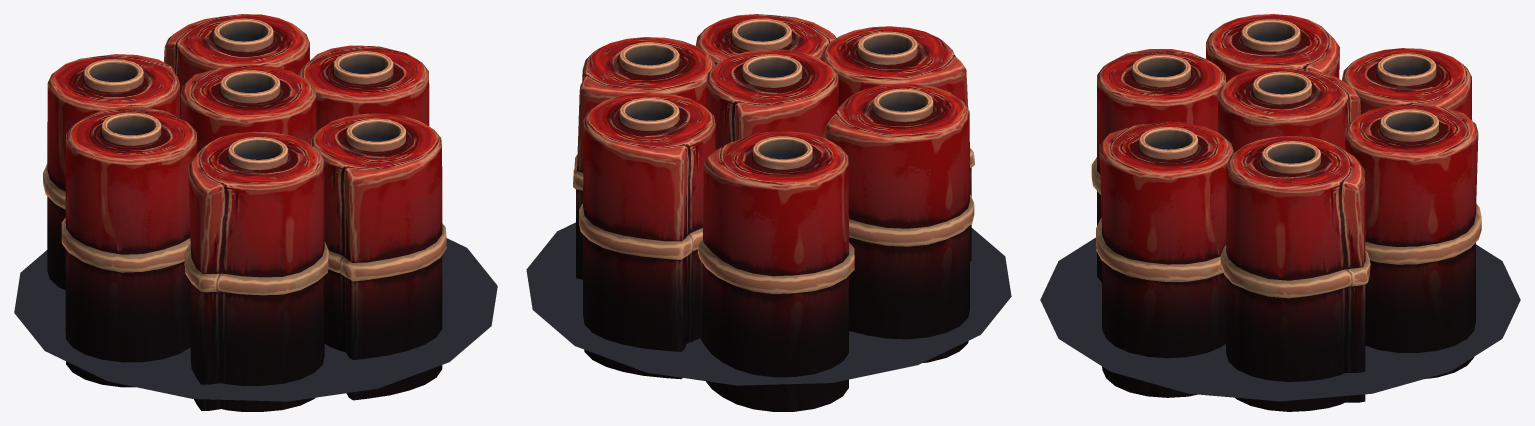
File: Fabrics.fbx
3 renders of one model, left to right at view 1: azimuth 30°, elevation 25°; view 2: azimuth 150°, elevation 25°; view 3: azimuth 270°, elevation 25°, orthographic.
Parts seen in each view (by area): view 1: Fabrics_LOD0; view 2: Fabrics_LOD0; view 3: Fabrics_LOD0.
Boxes of the visible parts, x1,y1,x2,y2 form: Fabrics_LOD0: (14, 14, 497, 411); Fabrics_LOD0: (526, 14, 1011, 411); Fabrics_LOD0: (1040, 14, 1520, 411).
Size of what is drawn, in the model's own units: 0.5221 by 0.3042 by 0.5221.
